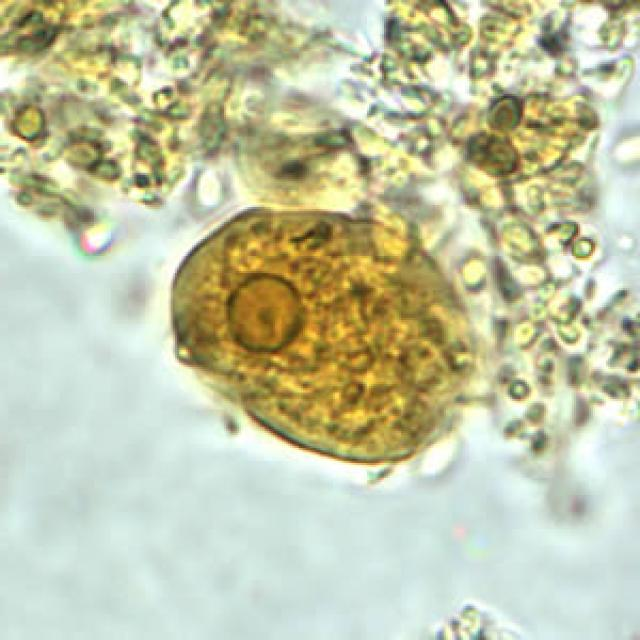Rod_bacteria: (2, 0, 640, 501)
